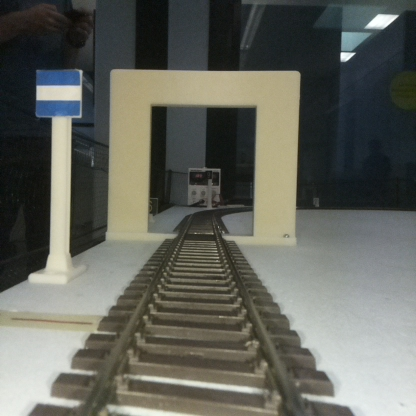start: (36, 70, 80, 280)
